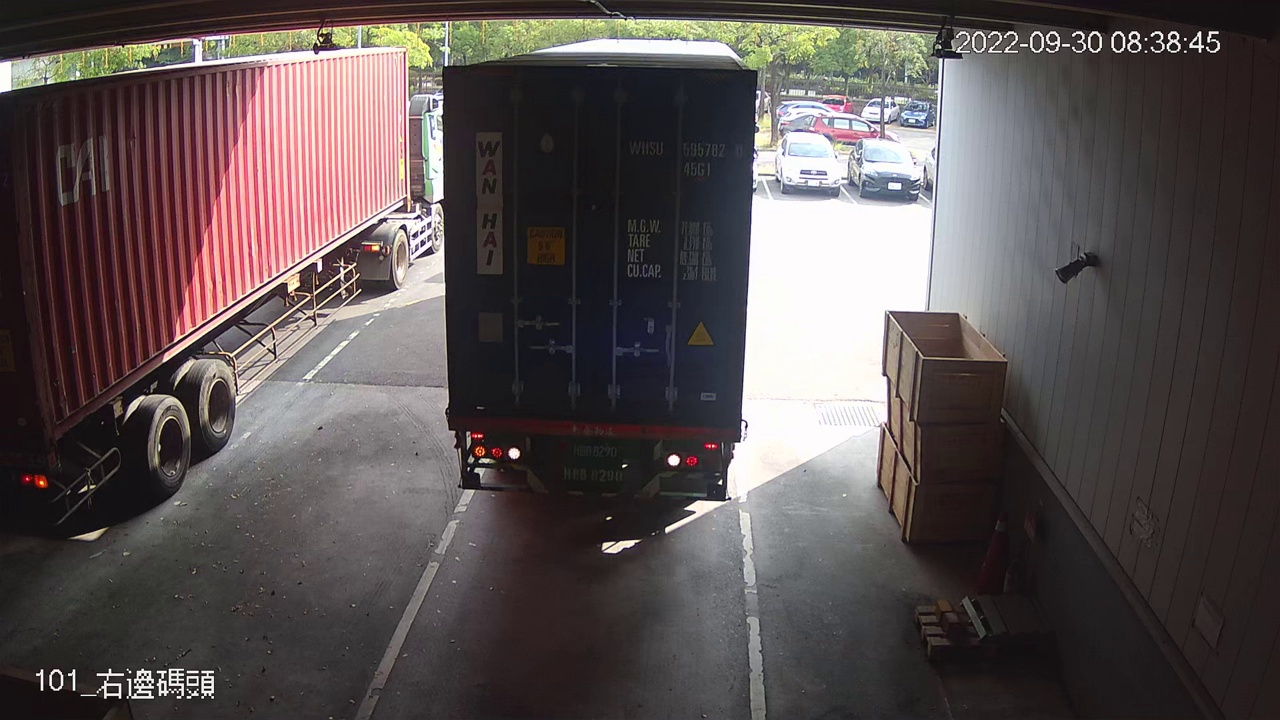container: (625, 136, 749, 181)
